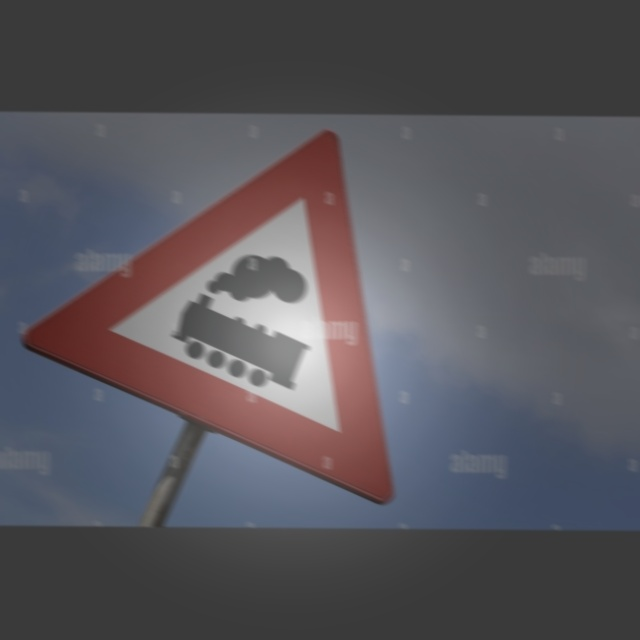Unguarded_Level_Crossing: (58, 131, 397, 455)
